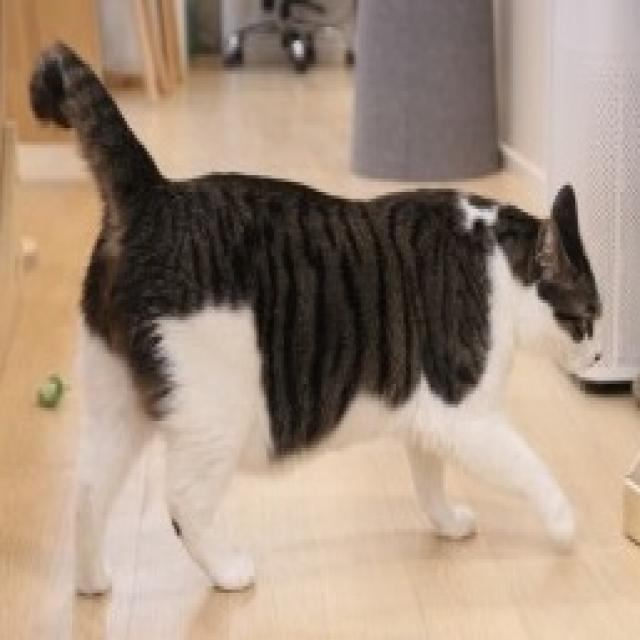cat: (11, 29, 616, 623)
